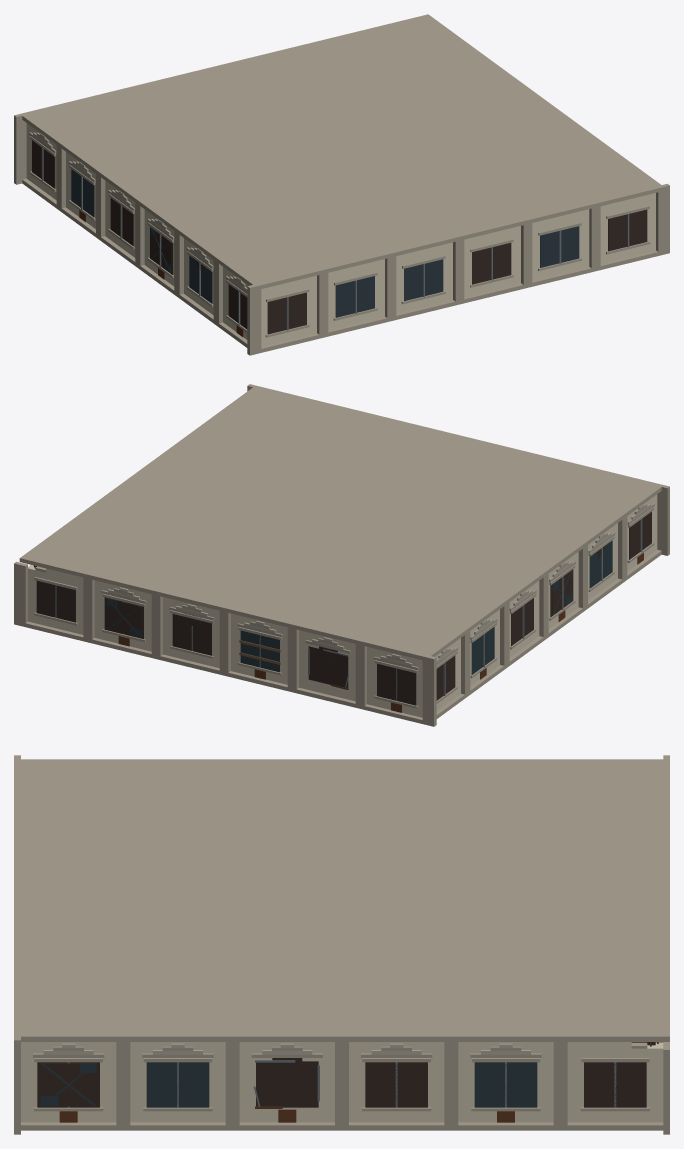
The model's file is tw_deco_24_floor_c.glb.
3 views of the same model, one above another, from view 1: azimuth 30°, elevation 25°; view 2: azimuth 150°, elevation 25°; view 3: azimuth 270°, elevation 25° (orthographic). The views are drawn at different scales.
Visible parts, largest first — view 1: tw_deco_24_floor_c; view 2: tw_deco_24_floor_c; view 3: tw_deco_24_floor_c.
Part boxes in pixels (left/top/right/bottom): tw_deco_24_floor_c: left=14, top=14, right=669, bottom=355; tw_deco_24_floor_c: left=14, top=384, right=669, bottom=726; tw_deco_24_floor_c: left=14, top=755, right=669, bottom=1134.
Bounding box in the file's own units: 24.68 × 3.8 × 24.
2 materials, 2 textured.
